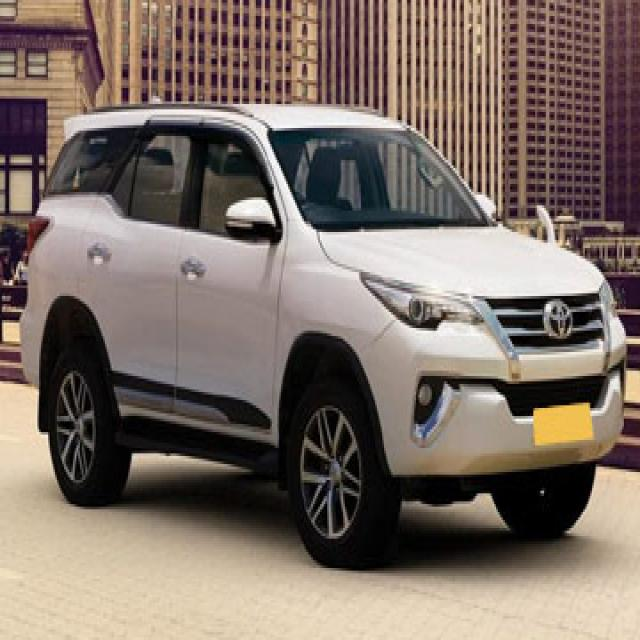light_vehicle: (20, 100, 628, 567)
